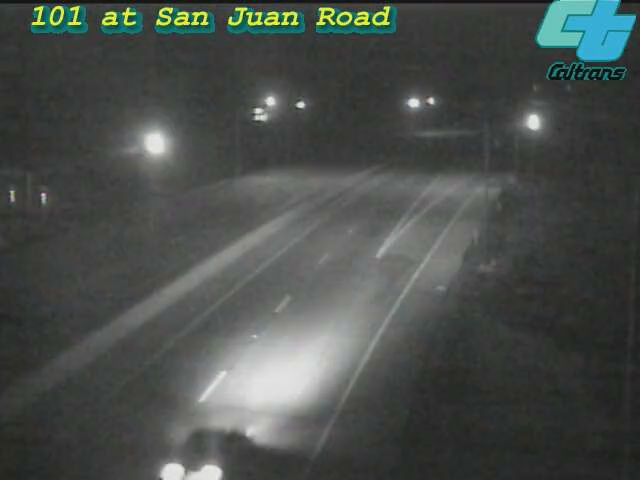vehicle: (153, 398, 263, 480), (508, 97, 558, 147)
